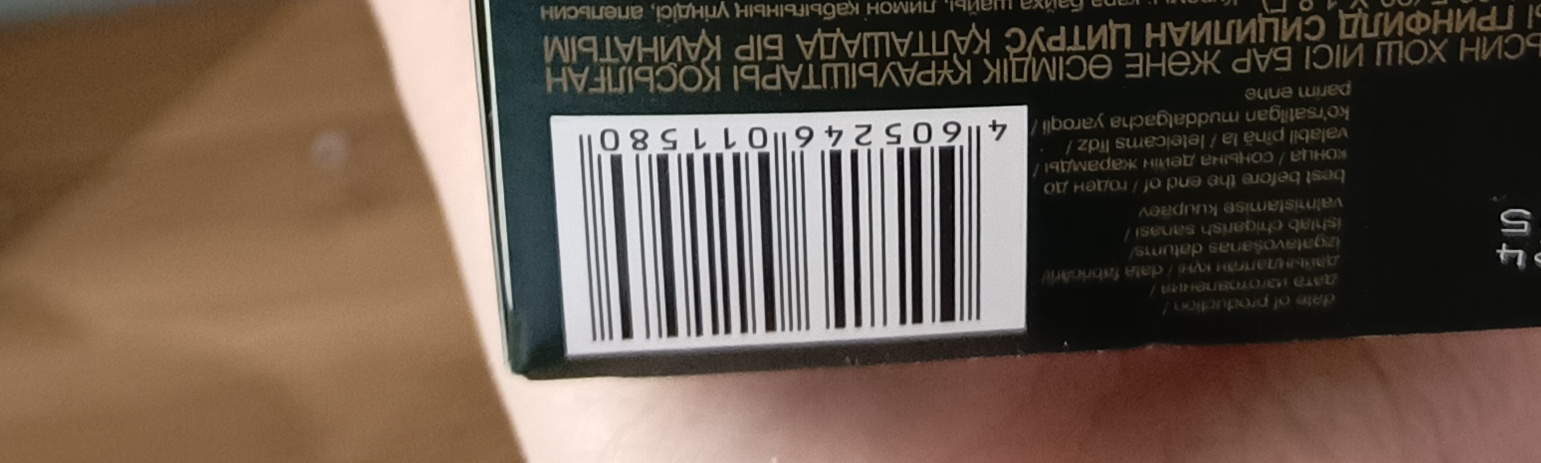1d: (574, 139, 981, 346)
